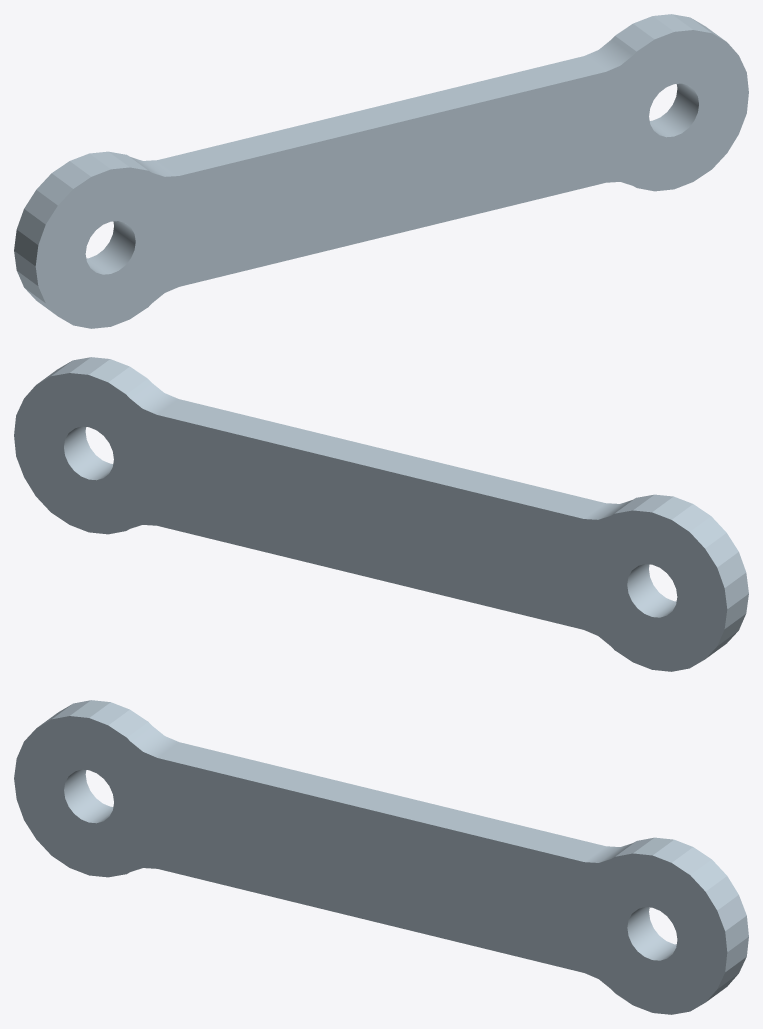
File: prt0016.obj
3 renders of one model, top to bottom at view 1: azimuth 30°, elevation 25°; view 2: azimuth 150°, elevation 25°; view 3: azimuth 330°, elevation 25°, orthographic.
Parts seen in each view (by area): view 1: 1; view 2: 1; view 3: 1.
Boxes of the visible parts, <box> form: 1: <box>14,14,748,328</box>; 1: <box>14,357,748,671</box>; 1: <box>14,700,748,1014</box>.
Bounding box in the file's own units: 56.98 × 12.02 × 3.
